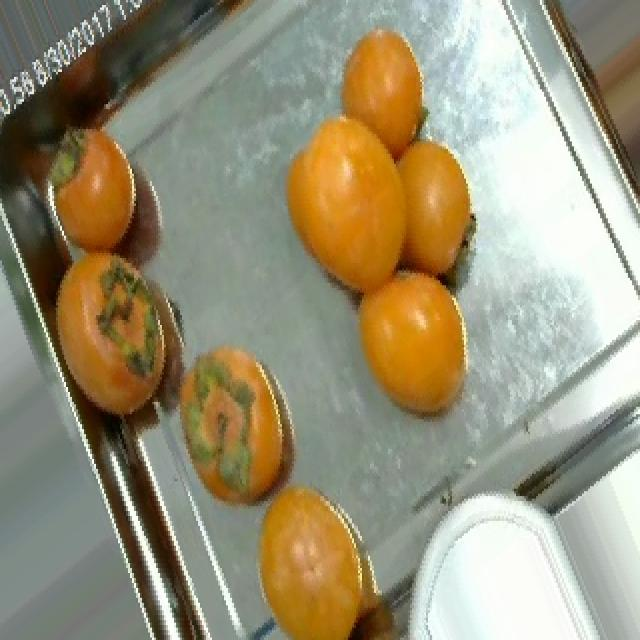Fruit: (142, 317, 328, 541), (238, 461, 398, 640), (322, 10, 446, 176)
